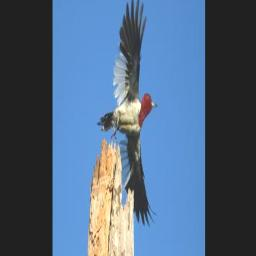Woodpecker: (97, 0, 158, 227)
